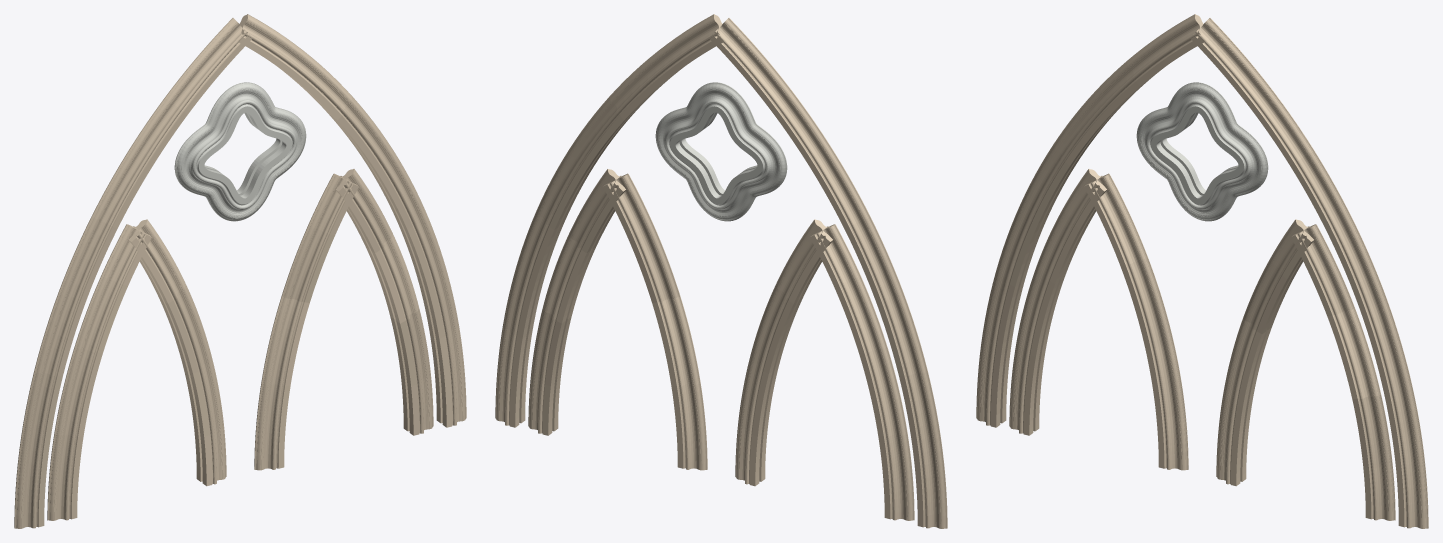
Rendered from R47_WINDOW_HEAD_WITH_REBATES.glb.
3 views of the same model, side by side, from view 1: azimuth 30°, elevation 25°; view 2: azimuth 150°, elevation 25°; view 3: azimuth 330°, elevation 25° (orthographic).
Parts seen in each view (by area): view 1: R46_OUTER_CROWN_KEYSTONE_EXPERIMENTAL, R46_OUTER_left_COURSE_02, R46_OUTER_left_COURSE_01, R46_OUTER_right_COURSE_02, R46_OUTER_left_COURSE_03, R46_RIGHT_LANCET_CROWN_KEYSTONE_EXPERIMENTAL, R46_LEFT_LANCET_CROWN_KEYSTONE_EXPERIMENTAL, R46_OUTER_right_COURSE_03, R46_OUTER_right_COURSE_04, R46_LEFT_LANCET_left_COURSE_02, R46_RIGHT_LANCET_left_COURSE_02, R46_RIGHT_LANCET_left_COURSE_01 (+17 smaller); view 2: R46_OUTER_CROWN_KEYSTONE_EXPERIMENTAL, R46_OUTER_left_COURSE_02, R46_OUTER_left_COURSE_01, R46_OUTER_right_COURSE_02, R46_OUTER_left_COURSE_03, R46_LEFT_LANCET_CROWN_KEYSTONE_EXPERIMENTAL, R46_RIGHT_LANCET_CROWN_KEYSTONE_EXPERIMENTAL, R46_OUTER_right_COURSE_03, R46_OUTER_right_COURSE_04, R46_LEFT_LANCET_left_COURSE_02, R46_RIGHT_LANCET_left_COURSE_02, R46_RIGHT_LANCET_left_COURSE_01 (+17 smaller); view 3: R46_OUTER_CROWN_KEYSTONE_EXPERIMENTAL, R46_OUTER_right_COURSE_02, R46_OUTER_left_COURSE_01, R46_OUTER_left_COURSE_02, R46_OUTER_right_COURSE_03, R46_LEFT_LANCET_CROWN_KEYSTONE_EXPERIMENTAL, R46_RIGHT_LANCET_CROWN_KEYSTONE_EXPERIMENTAL, R46_OUTER_left_COURSE_03, R46_OUTER_right_COURSE_04, R46_LEFT_LANCET_right_COURSE_02, R46_RIGHT_LANCET_right_COURSE_02, R46_LEFT_LANCET_left_COURSE_01 (+17 smaller).
Boxes of the visible parts, x1,y1,x2,y2 form: R46_OUTER_CROWN_KEYSTONE_EXPERIMENTAL: [165, 14, 352, 120]; R46_OUTER_left_COURSE_02: [34, 217, 117, 376]; R46_OUTER_left_COURSE_01: [14, 372, 62, 528]; R46_OUTER_right_COURSE_02: [328, 96, 425, 229]; R46_OUTER_left_COURSE_03: [91, 98, 187, 228]; R46_RIGHT_LANCET_CROWN_KEYSTONE_EXPERIMENTAL: [308, 169, 392, 253]; R46_LEFT_LANCET_CROWN_KEYSTONE_EXPERIMENTAL: [101, 219, 185, 303]; R46_OUTER_right_COURSE_03: [398, 211, 458, 338]; R46_OUTER_right_COURSE_04: [429, 325, 466, 427]; R46_LEFT_LANCET_left_COURSE_02: [54, 347, 102, 436]; R46_RIGHT_LANCET_left_COURSE_02: [261, 296, 309, 386]; R46_RIGHT_LANCET_left_COURSE_01: [254, 383, 290, 470]; R46_OUTER_CROWN_KEYSTONE_EXPERIMENTAL: [609, 14, 796, 120]; R46_OUTER_left_COURSE_02: [844, 216, 927, 376]; R46_OUTER_left_COURSE_01: [899, 372, 947, 528]; R46_OUTER_right_COURSE_02: [536, 96, 633, 229]; R46_OUTER_left_COURSE_03: [774, 98, 870, 228]; R46_LEFT_LANCET_CROWN_KEYSTONE_EXPERIMENTAL: [776, 219, 860, 303]; R46_RIGHT_LANCET_CROWN_KEYSTONE_EXPERIMENTAL: [569, 169, 653, 253]; R46_OUTER_right_COURSE_03: [503, 211, 563, 338]; R46_OUTER_right_COURSE_04: [495, 325, 532, 427]; R46_LEFT_LANCET_left_COURSE_02: [859, 347, 907, 436]; R46_RIGHT_LANCET_left_COURSE_02: [652, 296, 700, 386]; R46_RIGHT_LANCET_left_COURSE_01: [671, 383, 707, 470]; R46_OUTER_CROWN_KEYSTONE_EXPERIMENTAL: [1127, 14, 1314, 164]; R46_OUTER_right_COURSE_02: [1290, 151, 1387, 308]; R46_OUTER_left_COURSE_01: [976, 271, 1024, 427]; R46_OUTER_left_COURSE_02: [996, 144, 1079, 286]; R46_OUTER_right_COURSE_03: [1360, 301, 1420, 434]; R46_LEFT_LANCET_CROWN_KEYSTONE_EXPERIMENTAL: [1063, 169, 1147, 266]; R46_RIGHT_LANCET_CROWN_KEYSTONE_EXPERIMENTAL: [1270, 219, 1354, 316]; R46_OUTER_left_COURSE_03: [1053, 61, 1148, 165]; R46_OUTER_right_COURSE_04: [1391, 431, 1428, 528]; R46_LEFT_LANCET_right_COURSE_02: [1120, 258, 1174, 348]; R46_RIGHT_LANCET_right_COURSE_02: [1327, 308, 1381, 398]; R46_LEFT_LANCET_left_COURSE_01: [1009, 344, 1045, 435].
Bounding box in the file's own units: 2.05 × 1.98 × 0.0789.
